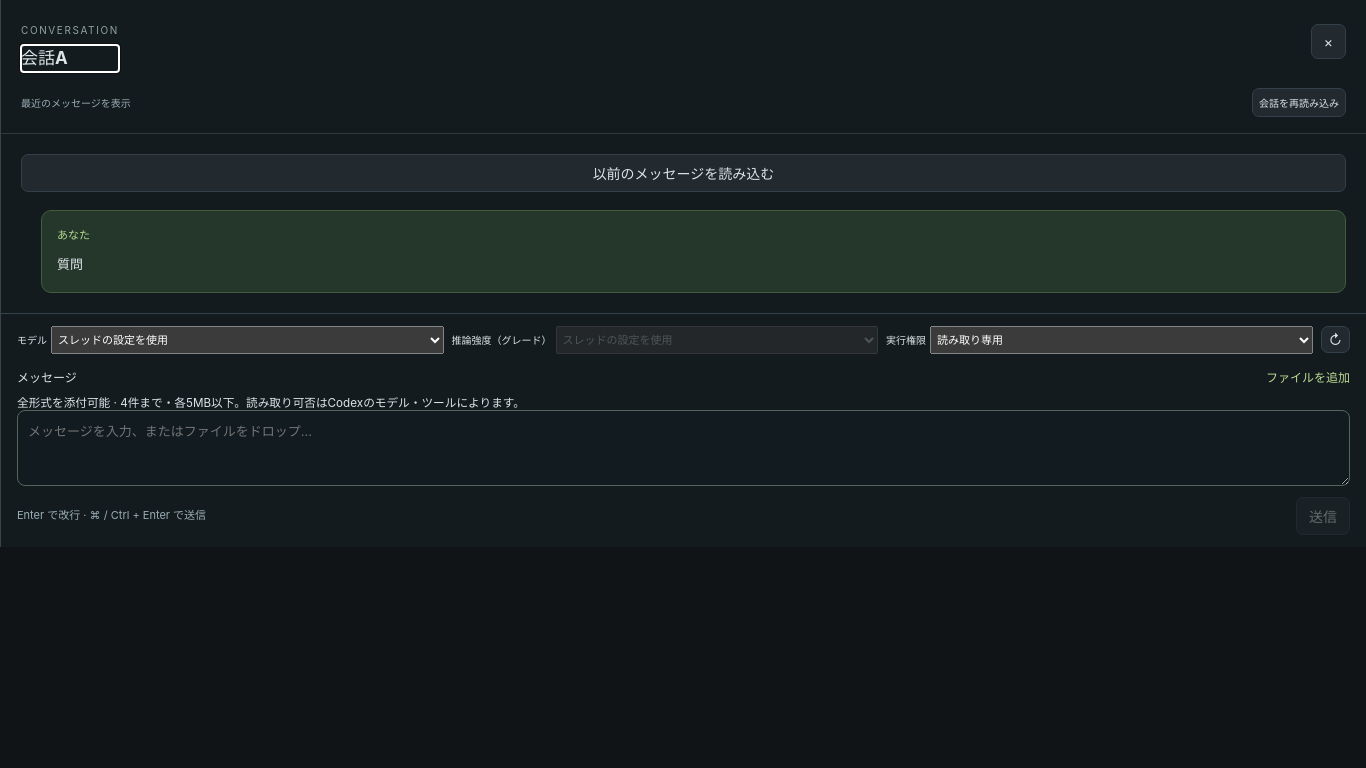
Test case: appends another page without duplicating messages
Click the button "以前のメッセージを読み込む" at (684, 173), box [21,154,1346,192]
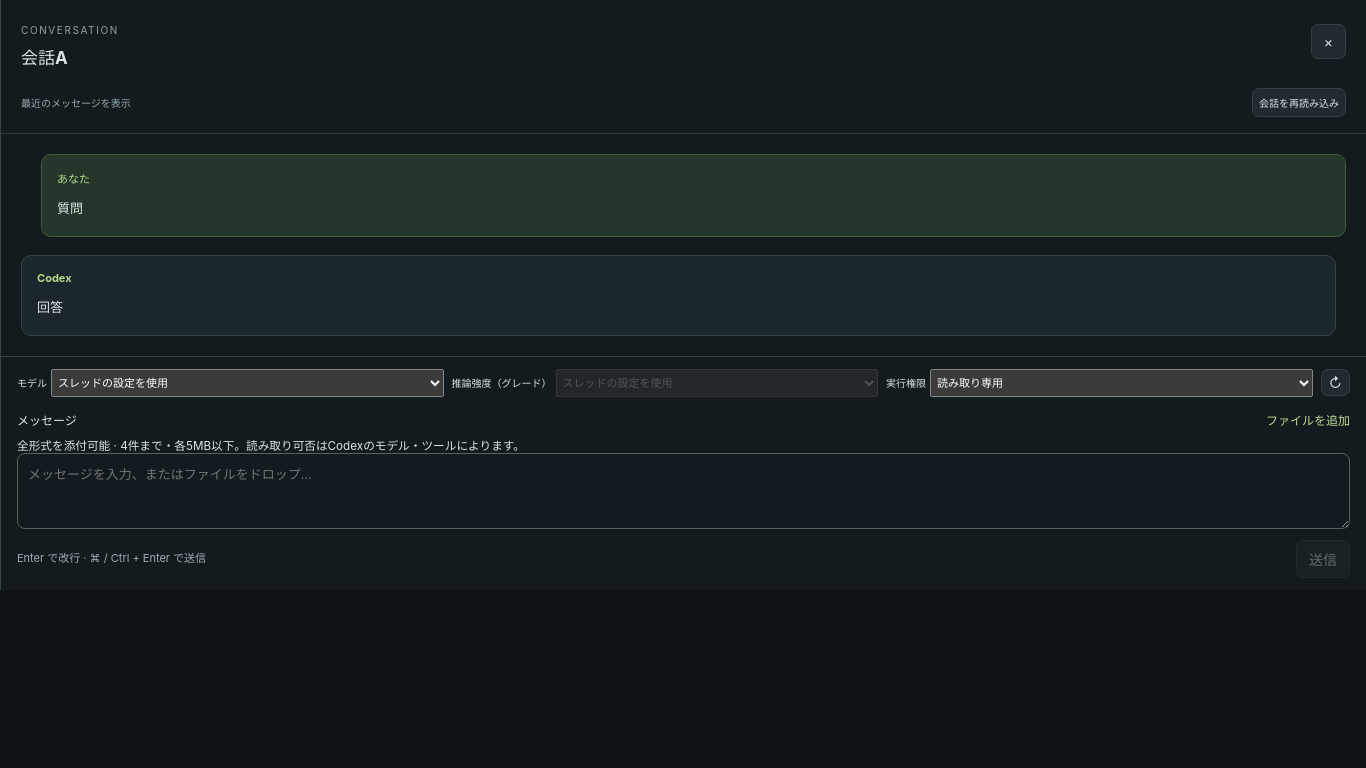
Expected: the text "回答" is shown, [37,299,63,315]
Expected: the text "質問" is shown once, [57,200,83,216]
